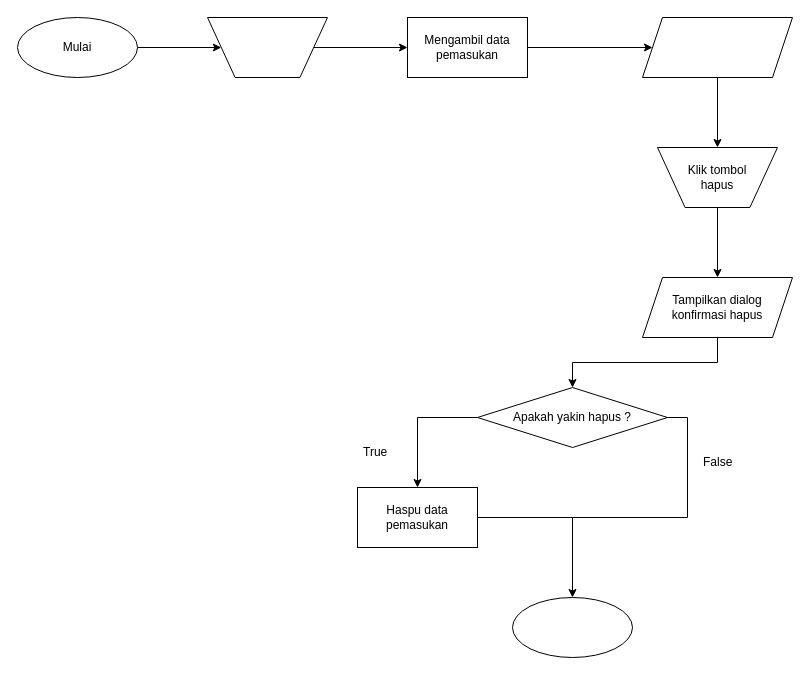
The diagram is 810 pixels wide and 675 high, and some of its shapes have lost their labels. Here are the shapes that lost their labels. From the top down, the centre of each, then its label:
At point (267, 47): "Buka halaman pemasukan".
At point (717, 47): "Tampilkan data pemasukan".
At point (572, 627): "Selesai".
